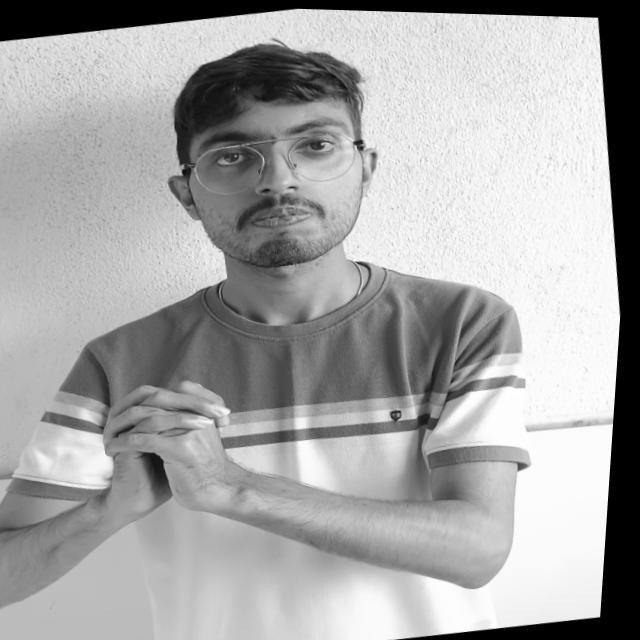Sorry: (54, 356, 303, 557)
